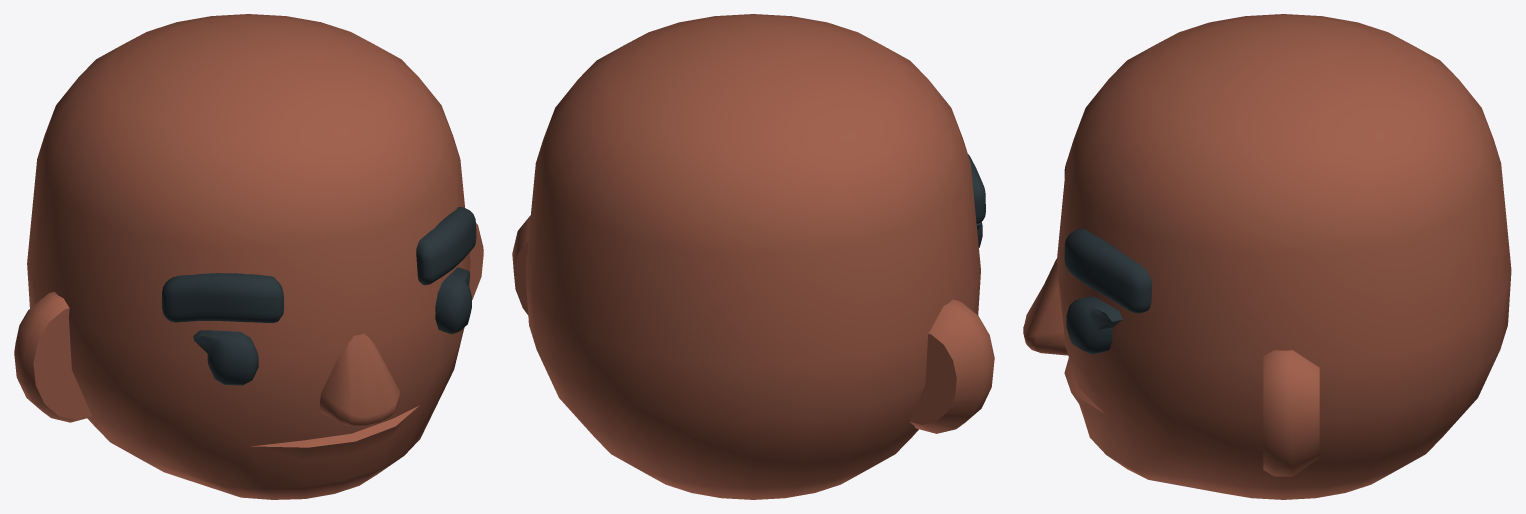
The model's file is mageHeadA.fbx.
The picture shows the model from 3 angles, left to right: view 1: azimuth 30°, elevation 25°; view 2: azimuth 150°, elevation 25°; view 3: azimuth 270°, elevation 25°; orthographic projection. The views are drawn at different scales.
Parts seen in each view (by area): view 1: mageHeadA; view 2: mageHeadA; view 3: mageHeadA.
Part boxes in pixels (left/top/right/bottom): mageHeadA: left=14, top=14, right=483, bottom=499; mageHeadA: left=512, top=14, right=994, bottom=499; mageHeadA: left=1023, top=14, right=1511, bottom=499.
Size of the model in its own units: 1.18 by 0.9703 by 1.05.
